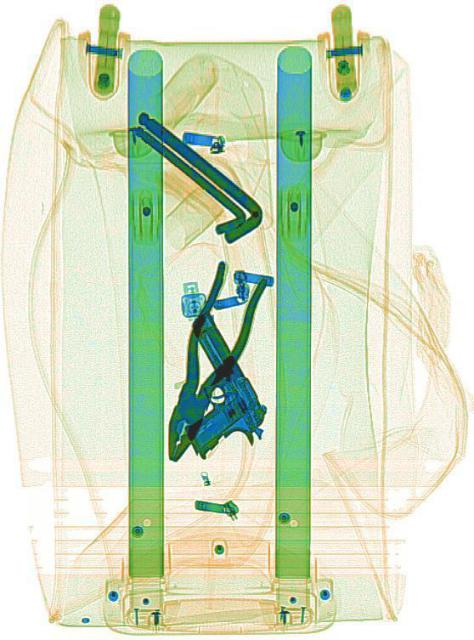Gun: (145, 304, 273, 478)
Pliers: (145, 252, 267, 472)
